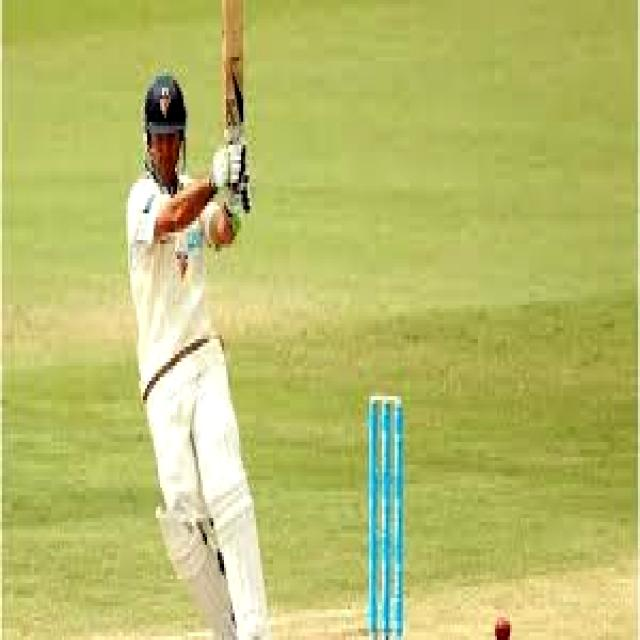toe: (221, 0, 244, 15)
